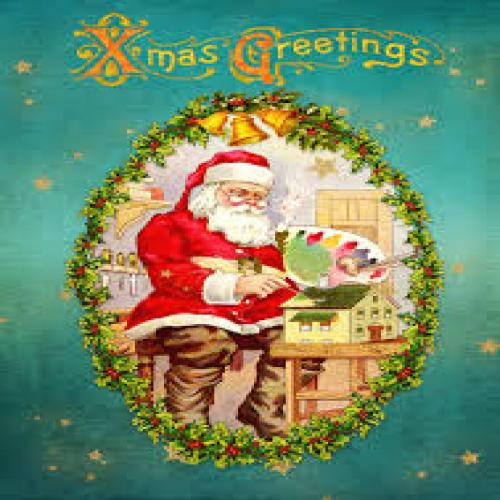Santa: (121, 150, 295, 442)
